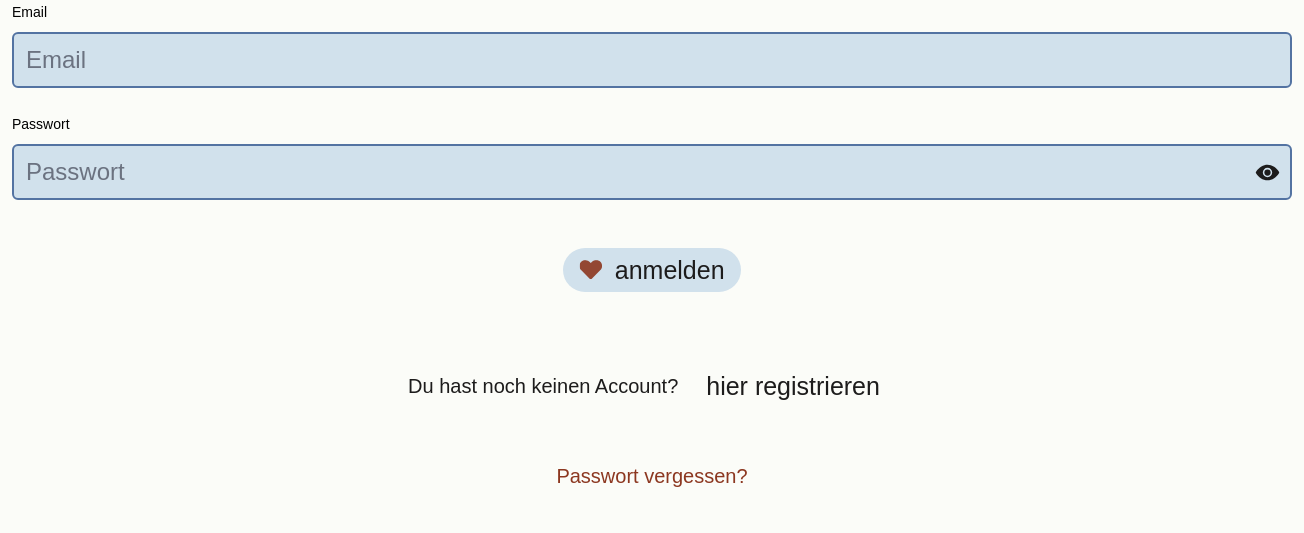
Test: LoginForm › should display an error message on failed login
Type "test@example.com" into the field with placeholder "Email".
click(652, 60); type("test@example.com")  # box [12,32,1292,88]
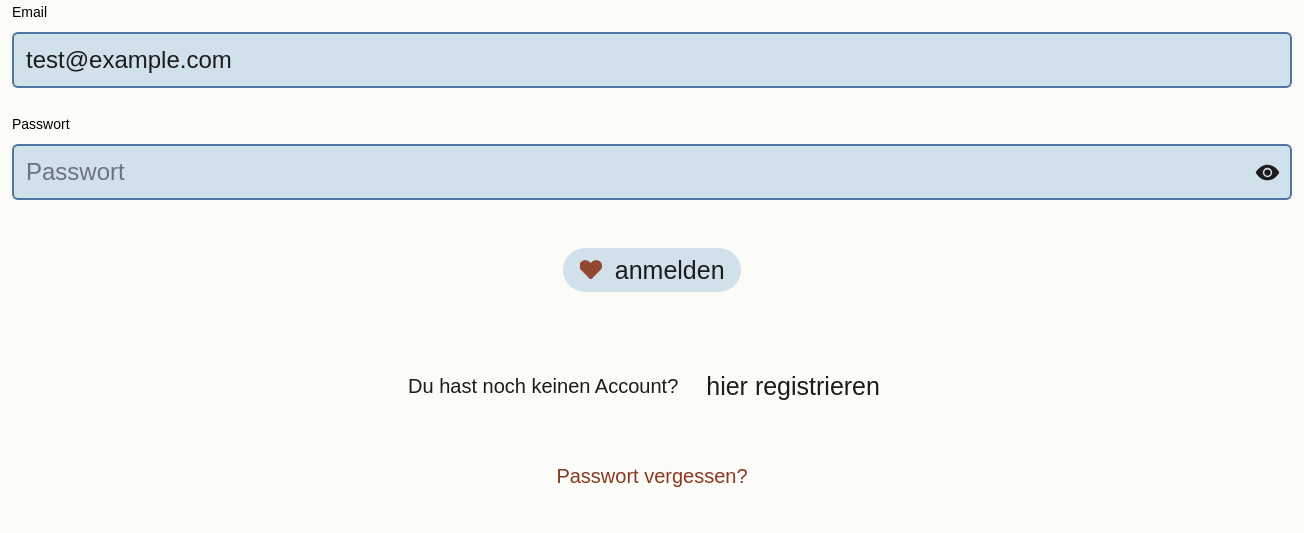
Type "wrongpassword" into the password field with placeholder "Passwort".
click(652, 172); type("wrongpassword")  # box [12,144,1292,200]
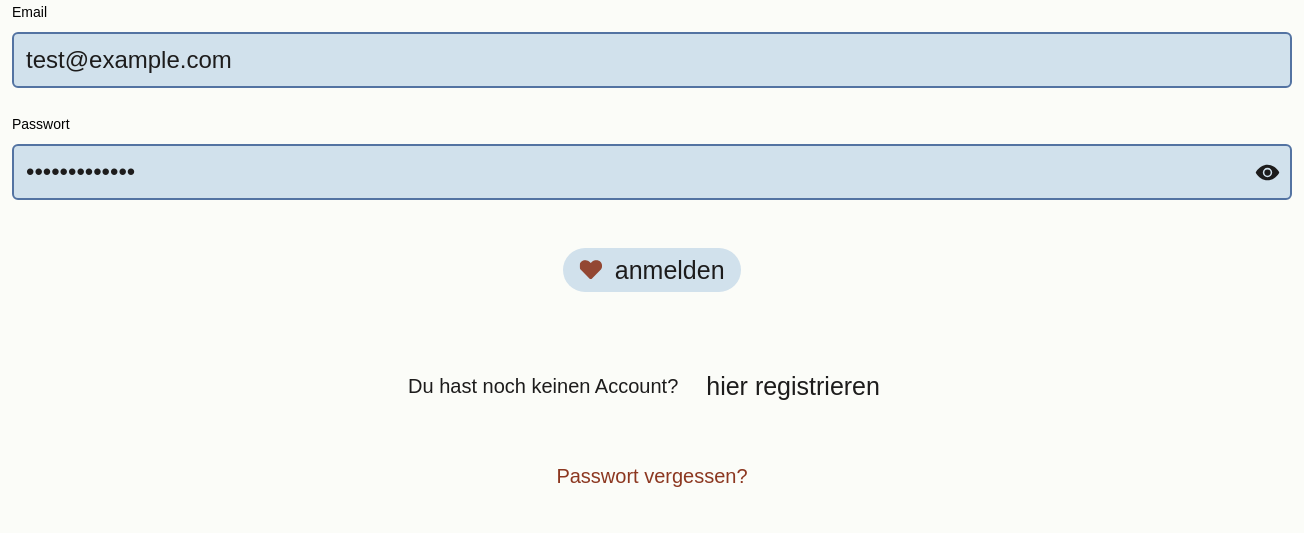
Click the button "anmelden".
click(652, 270)  # box [563,248,740,292]
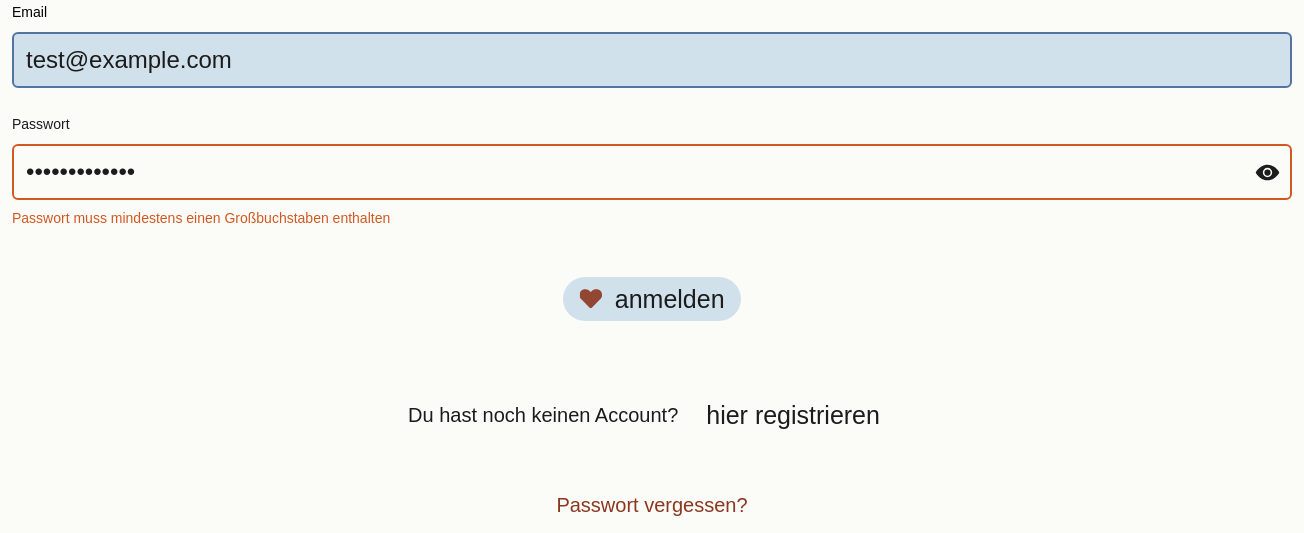
Result: the text "Passwort muss mindestens einen Großbuchstaben enthalten" is shown at [12,210,390,226]
